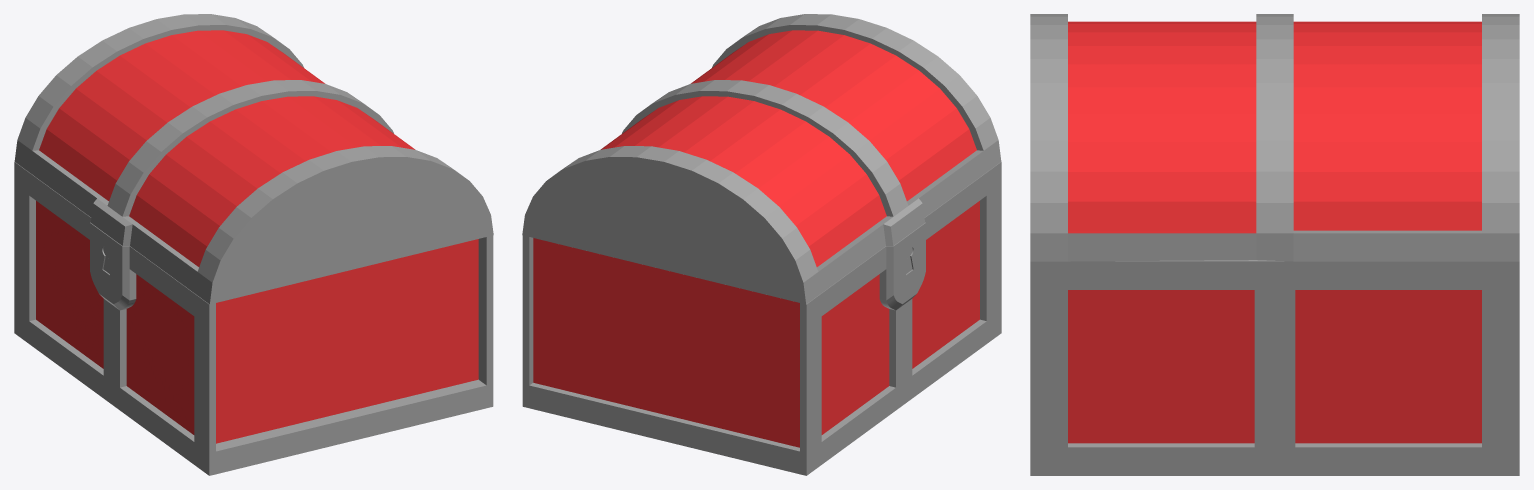
The model's file is RedChest.fbx.
3 views of the same model, side by side, from view 1: azimuth 30°, elevation 25°; view 2: azimuth 150°, elevation 25°; view 3: azimuth 270°, elevation 25° (orthographic). The views are drawn at different scales.
Visible parts, largest first — view 1: RedChest; view 2: RedChest; view 3: RedChest.
Part boxes in pixels (x1,y1,x2,y2): RedChest: (14, 14, 493, 475); RedChest: (522, 14, 1001, 475); RedChest: (1030, 14, 1519, 475).
Size of the model in its own units: 257 by 237 by 300.
